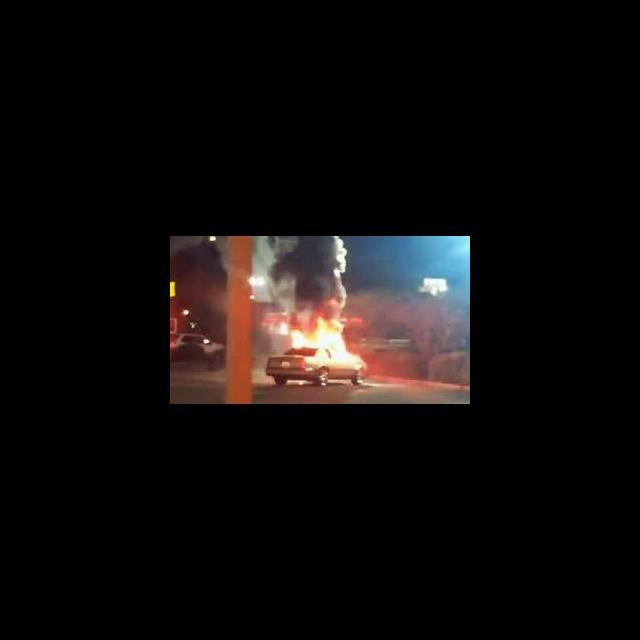Fire: (285, 314, 357, 362)
